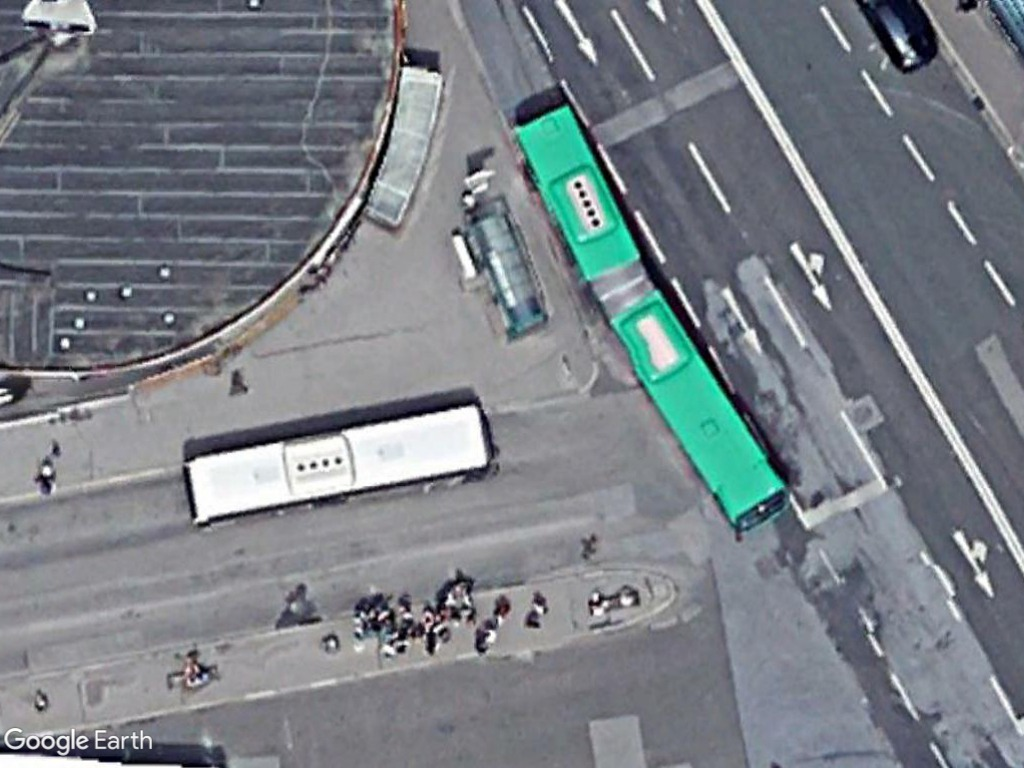bus: (606, 281, 794, 538), (179, 400, 493, 530), (509, 100, 645, 292)
